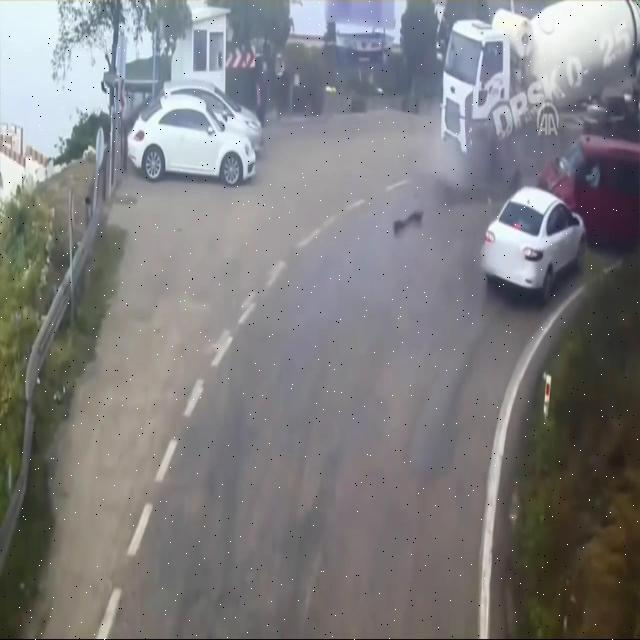moderate: (479, 128, 638, 308)
